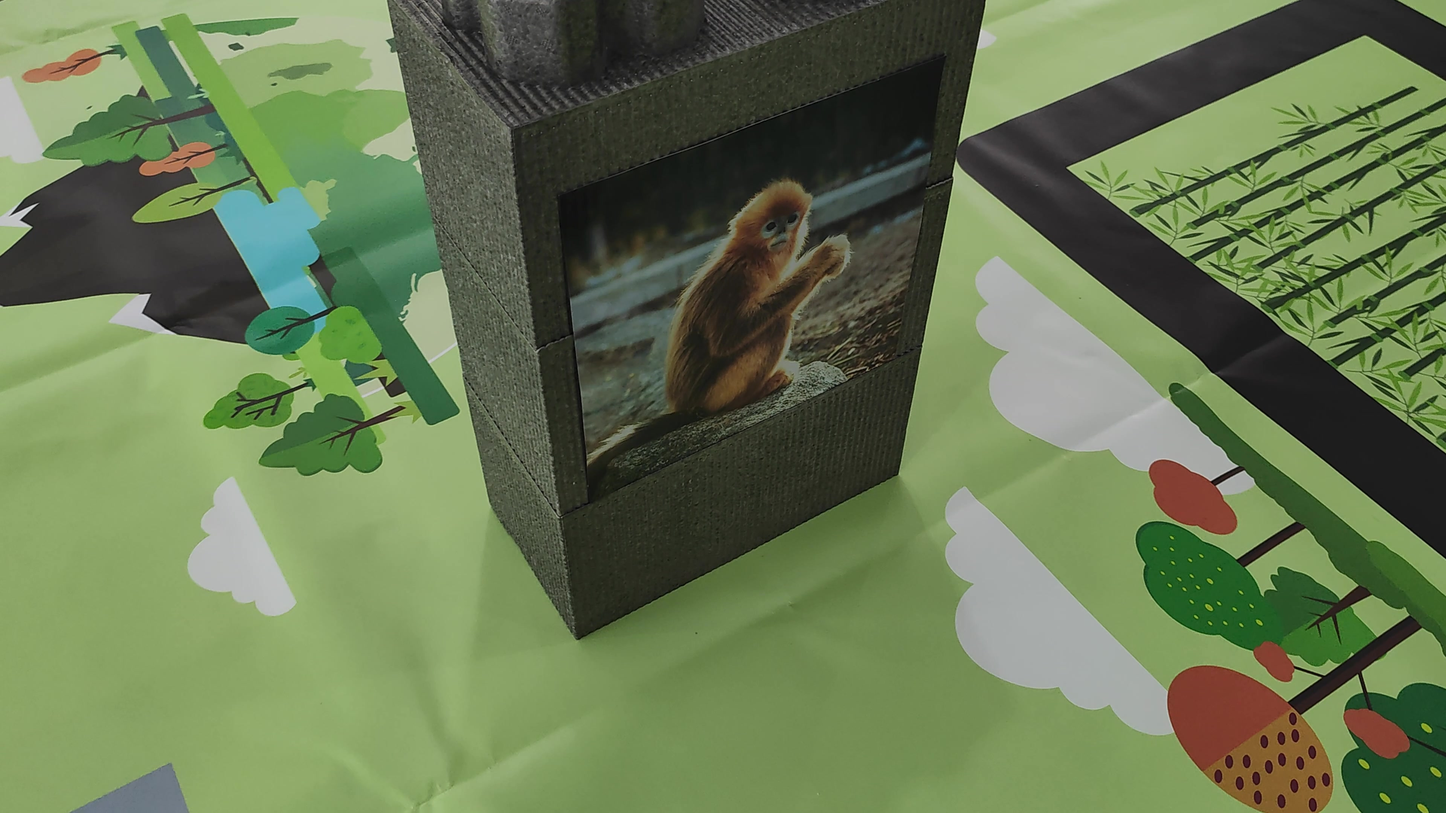monkey: (571, 165, 862, 489)
